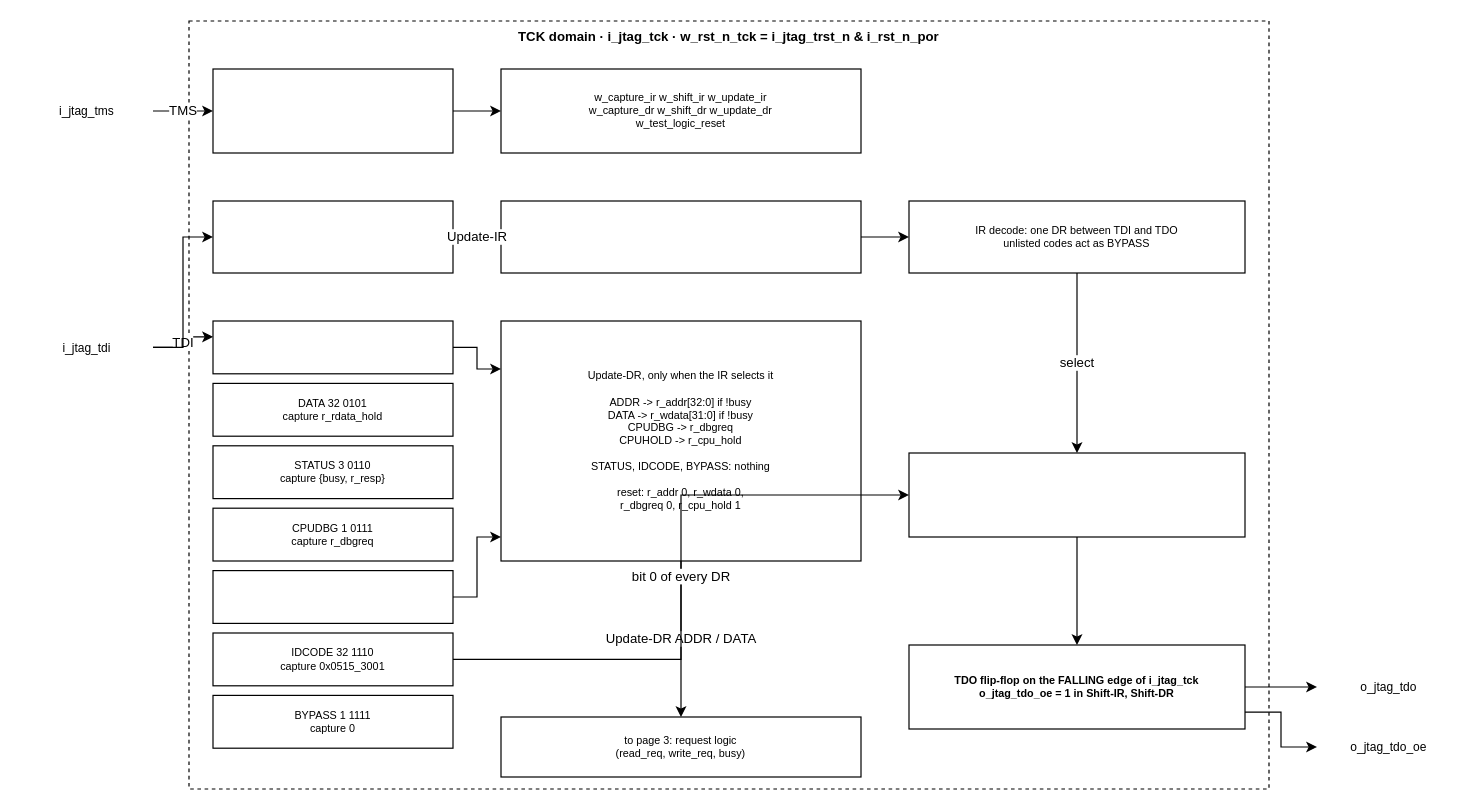
Image size: 1481x810. Some labels were removed from this diagram. The shapes that lost their labels are listed below. From the top down, each one's centre as x and y in pixels, then its label:
At (x=332, y=110): "TAP FSM IEEE 1149.1, 16 states".
At (x=332, y=236): "IR shift 4 bit Capture-IR loads 0001".
At (x=680, y=236): "r_ir 4 bit Update-IR loads shift Test-Logic-Reset loads 1110 (IDCODE)".
At (x=332, y=347): "ADDR 33 0100 capture r_addr".
At (x=1076, y=494): "TDO select Shift-IR: IR shift bit 0 Shift-DR: bit 0 of the selected DR".
At (x=332, y=596): "CPUHOLD 1 1000 capture r_cpu_hold".
